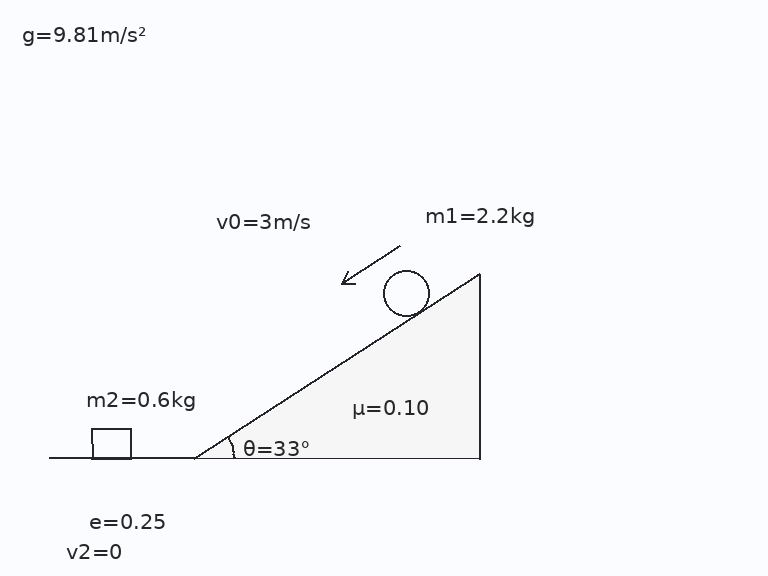ball: (381, 268, 431, 318)
block: (89, 427, 133, 460)
ramp: (192, 271, 481, 460)
